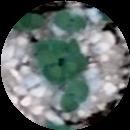Basil: (62, 81, 87, 110), (51, 57, 80, 78), (38, 42, 74, 58), (59, 13, 95, 29)
Nothing: (13, 10, 44, 32)
